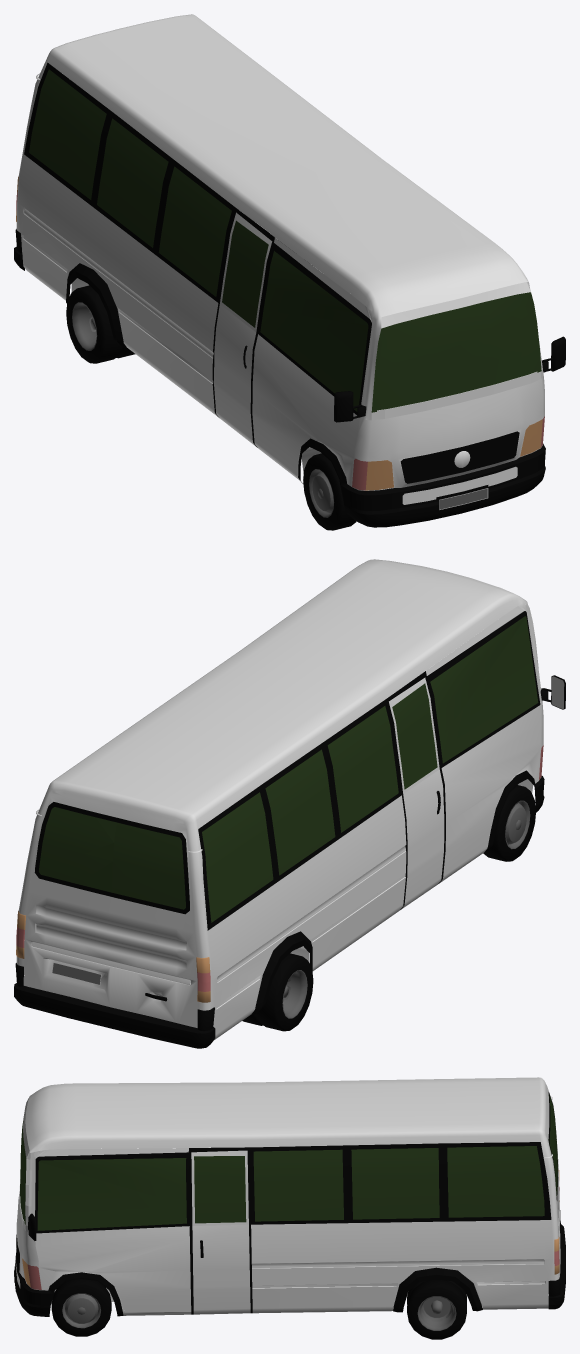
File: car7.glb
The picture shows the model from 3 angles, top to bottom: view 1: azimuth 30°, elevation 25°; view 2: azimuth 150°, elevation 25°; view 3: azimuth 270°, elevation 25°; orthographic projection. The views are drawn at different scales.
Visible parts, largest first — view 1: VehicleBody, ~Material__32_materialGroup_4, obj44~??_21_materialGroup_10, ~??_21_materialGroup_2, obj0~??_19_materialGroup_0, ~??_13_materialGroup_5, obj37~_____21_materialGroup_8, obj40~_____21_materialGroup_9, obj45~??_2_materialGroup_11; view 2: VehicleBody, ~Material__32_materialGroup_4, obj44~??_21_materialGroup_10, ~??_21_materialGroup_2, ~??_13_materialGroup_5, obj37~_____21_materialGroup_8, obj40~_____21_materialGroup_9, obj0~??_19_materialGroup_0, ~_____21_materialGroup_7, ~??_2_materialGroup_1; view 3: VehicleBody, ~Material__32_materialGroup_4, ~??_21_materialGroup_2, obj44~??_21_materialGroup_10, ~??_13_materialGroup_5, obj37~_____21_materialGroup_8, obj40~_____21_materialGroup_9, ~_____21_materialGroup_7.
Boxes of the visible parts, <box> form: VehicleBody: <box>16,14,544,509</box>; ~Material__32_materialGroup_4: <box>29,69,541,412</box>; obj44~??_21_materialGroup_10: <box>14,208,565,527</box>; ~??_21_materialGroup_2: <box>24,62,371,415</box>; obj0~??_19_materialGroup_0: <box>274,237,530,328</box>; ~??_13_materialGroup_5: <box>72,302,487,517</box>; obj37~_____21_materialGroup_8: <box>66,285,135,363</box>; obj40~_____21_materialGroup_9: <box>303,453,528,530</box>; obj45~??_2_materialGroup_11: <box>365,419,542,490</box>; VehicleBody: <box>16,559,564,1039</box>; ~Material__32_materialGroup_4: <box>39,616,538,922</box>; obj44~??_21_materialGroup_10: <box>14,671,565,1048</box>; ~??_21_materialGroup_2: <box>198,611,540,930</box>; ~??_13_materialGroup_5: <box>52,800,530,1018</box>; obj37~_____21_materialGroup_8: <box>242,953,313,1031</box>; obj40~_____21_materialGroup_9: <box>483,785,535,861</box>; obj0~??_19_materialGroup_0: <box>426,606,525,675</box>; ~_____21_materialGroup_7: <box>484,770,535,852</box>; ~??_2_materialGroup_1: <box>16,911,210,1002</box>; VehicleBody: <box>15,1077,560,1315</box>; ~Material__32_materialGroup_4: <box>20,1094,557,1230</box>; ~??_21_materialGroup_2: <box>35,1142,551,1233</box>; obj44~??_21_materialGroup_10: <box>14,1092,565,1316</box>; ~??_13_materialGroup_5: <box>14,1271,456,1330</box>; obj37~_____21_materialGroup_8: <box>407,1279,466,1339</box>; obj40~_____21_materialGroup_9: <box>51,1279,111,1336</box>; ~_____21_materialGroup_7: <box>48,1272,123,1316</box>.
Size of the model in its own units: 3.03 by 3.23 by 8.12.
